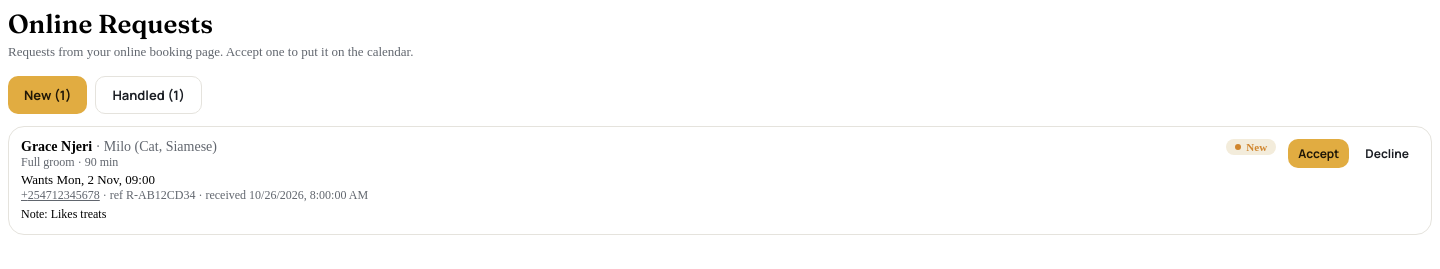
BookingRequestsPage › lists handled requests separately with their reason
Expected: the text "Grace Njeri · Milo (Cat, Siamese)" is shown, [21, 139, 217, 154]
Expected: the text "Old Request" is not shown
Click the button "Handled (1)" at (149,95), box [95, 76, 202, 114]
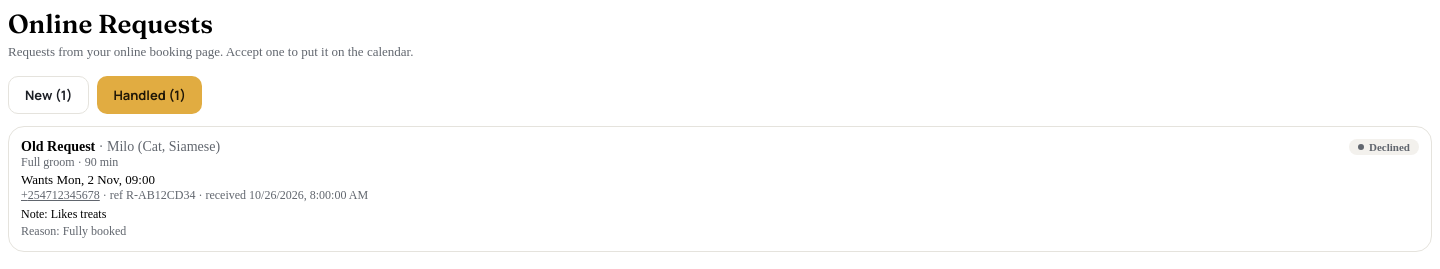
Result: the text "Old Request · Milo (Cat, Siamese)" is shown at [21, 139, 220, 154]
Result: the text "Reason: Fully booked" is shown at [21, 224, 126, 238]
